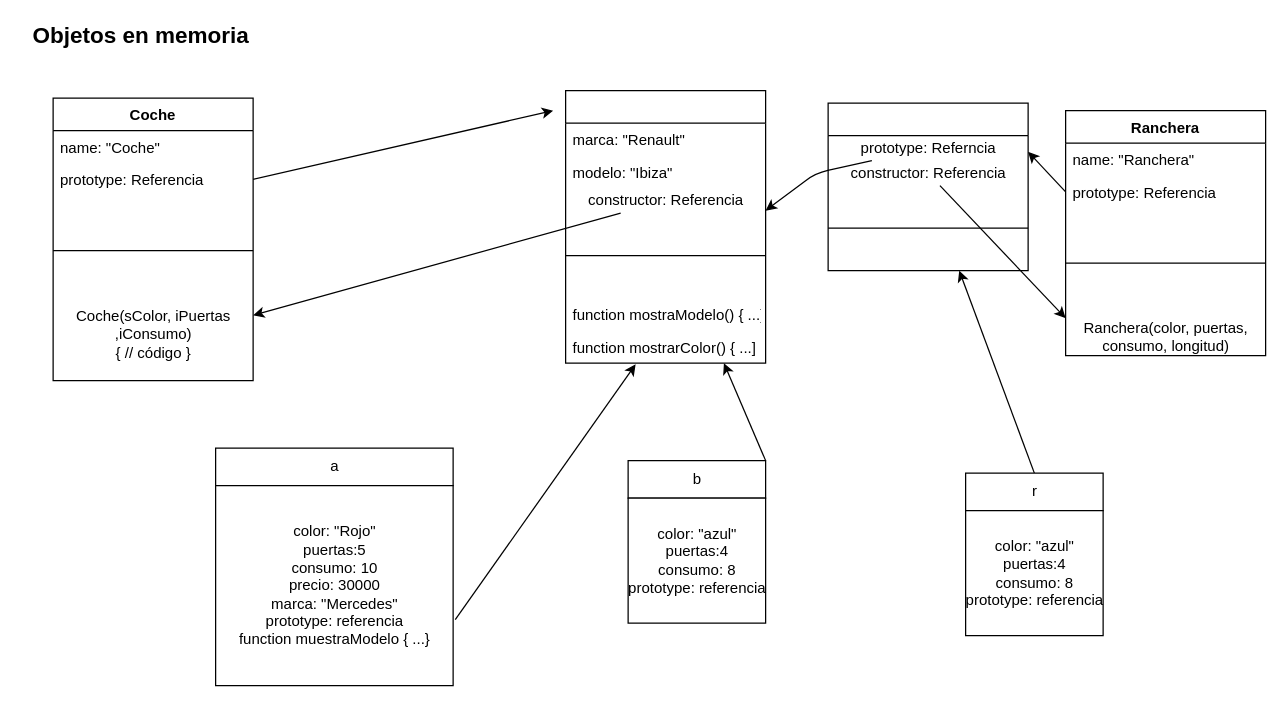
This 1288x708 diagram has some shape labels left out. The box of each missing label's shape, as (x1, y1, x2, y2) in pixels:
Prototype (coche): (564, 89, 766, 363)
Prototype (ranchera): (827, 102, 1028, 271)
